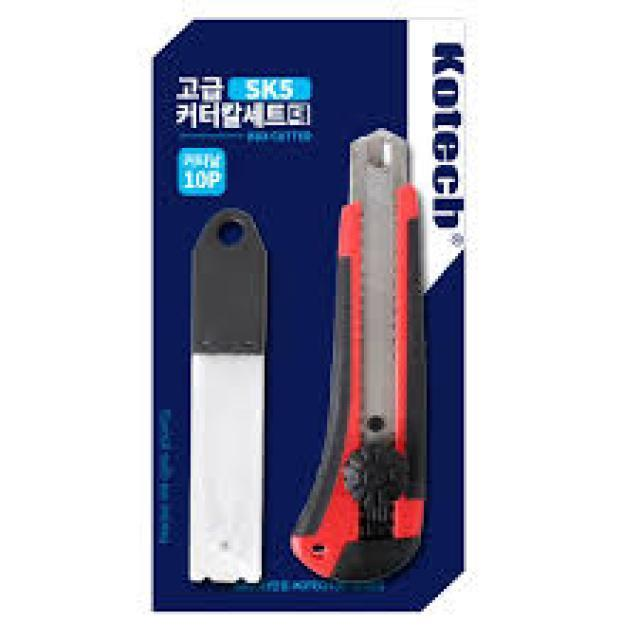cutter: (284, 127, 432, 582)
